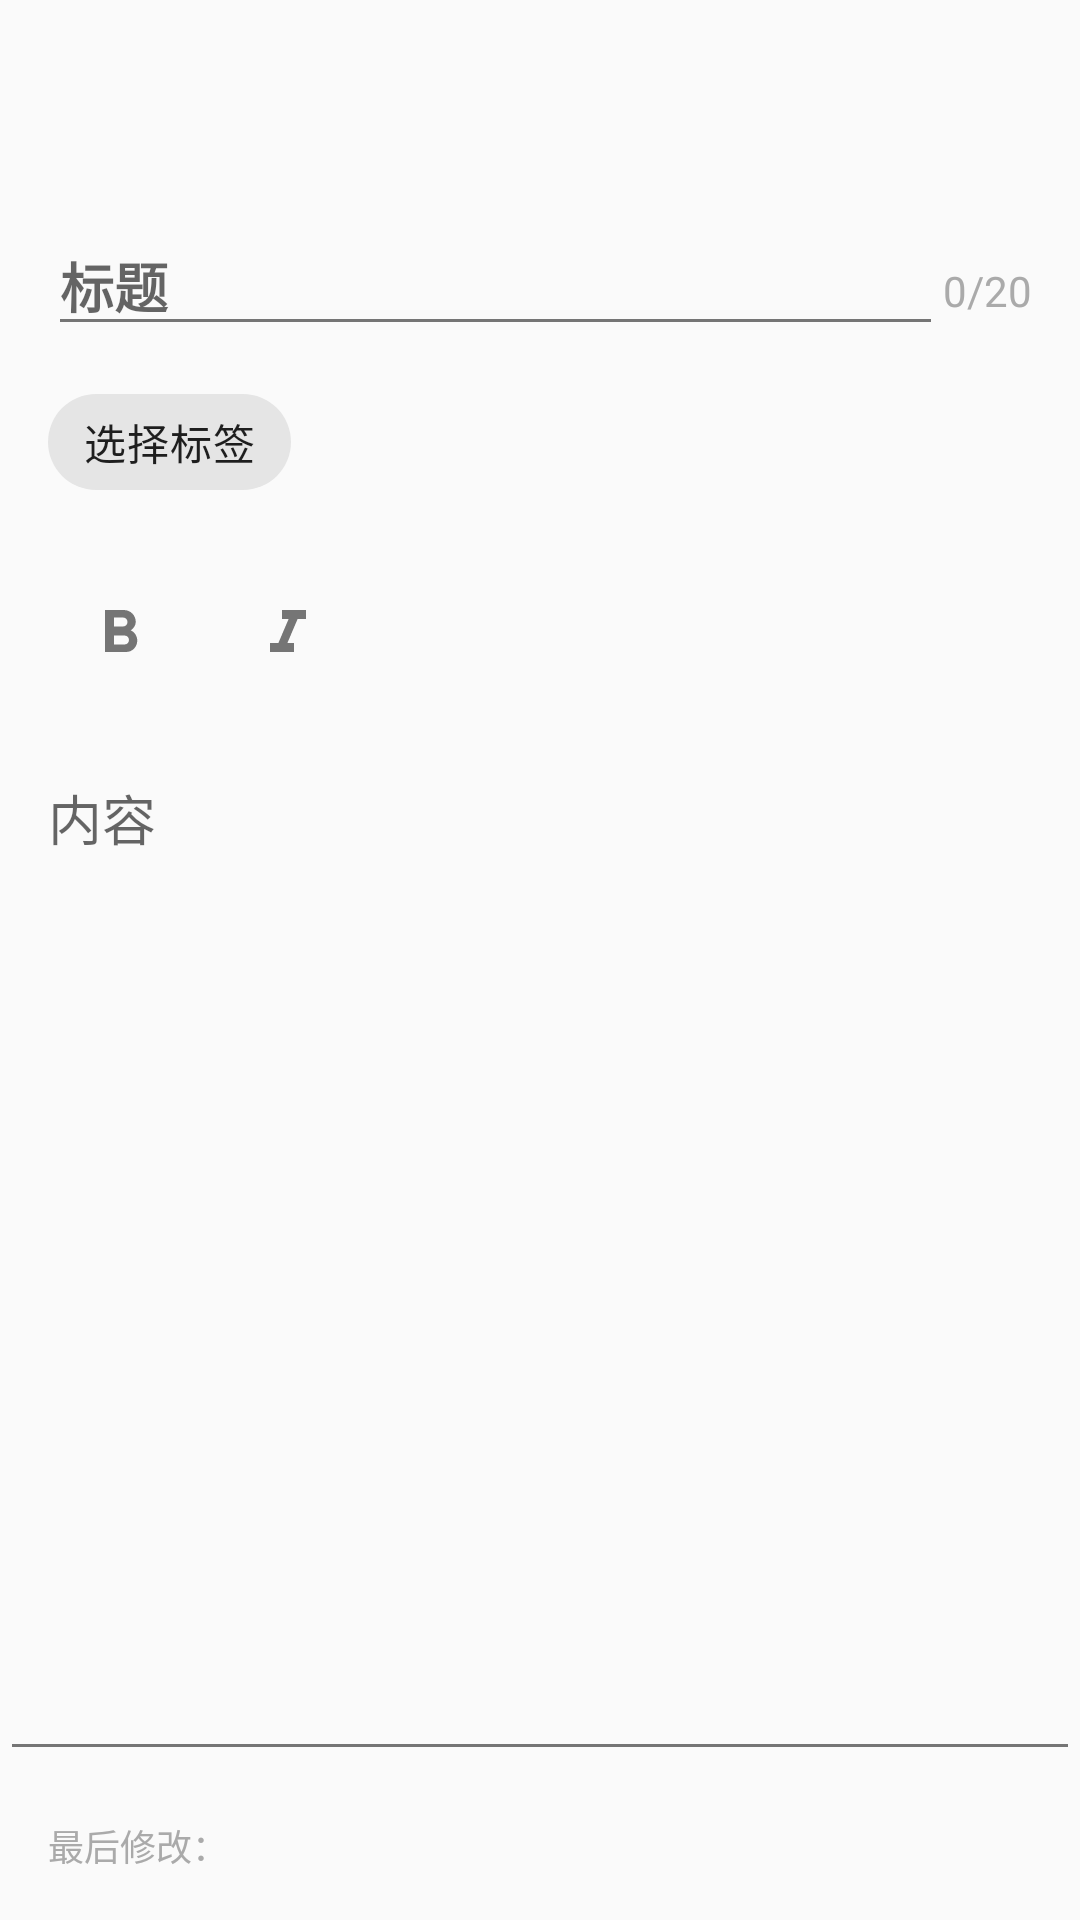

Icons on this 1080x1920 Android screen, each with its box as {"x1": x1, "y1": y1, "x2": x2, "y2": y2}:
italic: {"x1": 270, "y1": 610, "x2": 306, "y2": 652}
